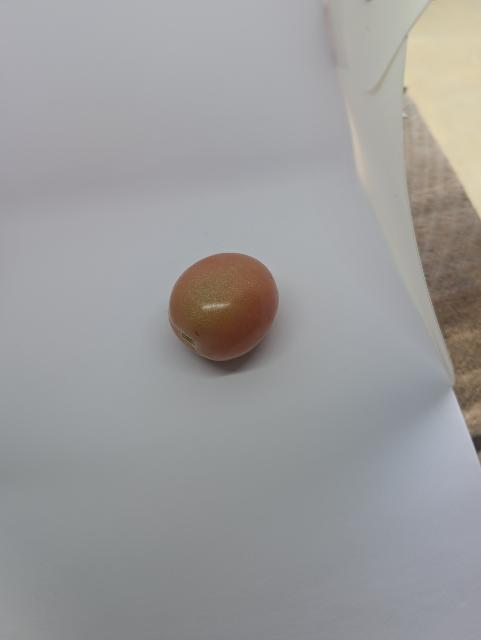turning: (161, 249, 286, 366)
